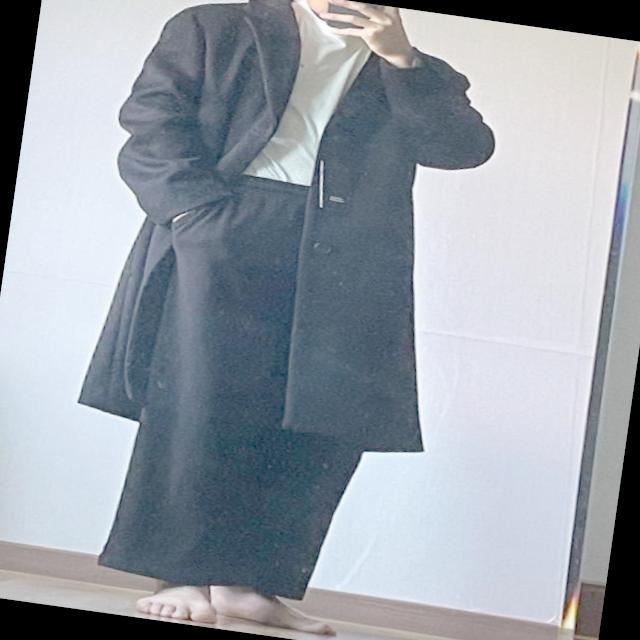coat: (71, 0, 514, 469)
trainingpants: (96, 162, 406, 612)
